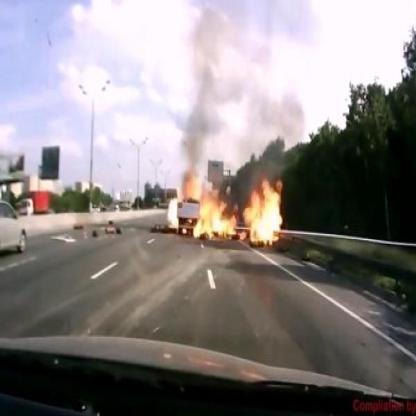fire: (183, 167, 285, 254), (164, 188, 180, 230)
